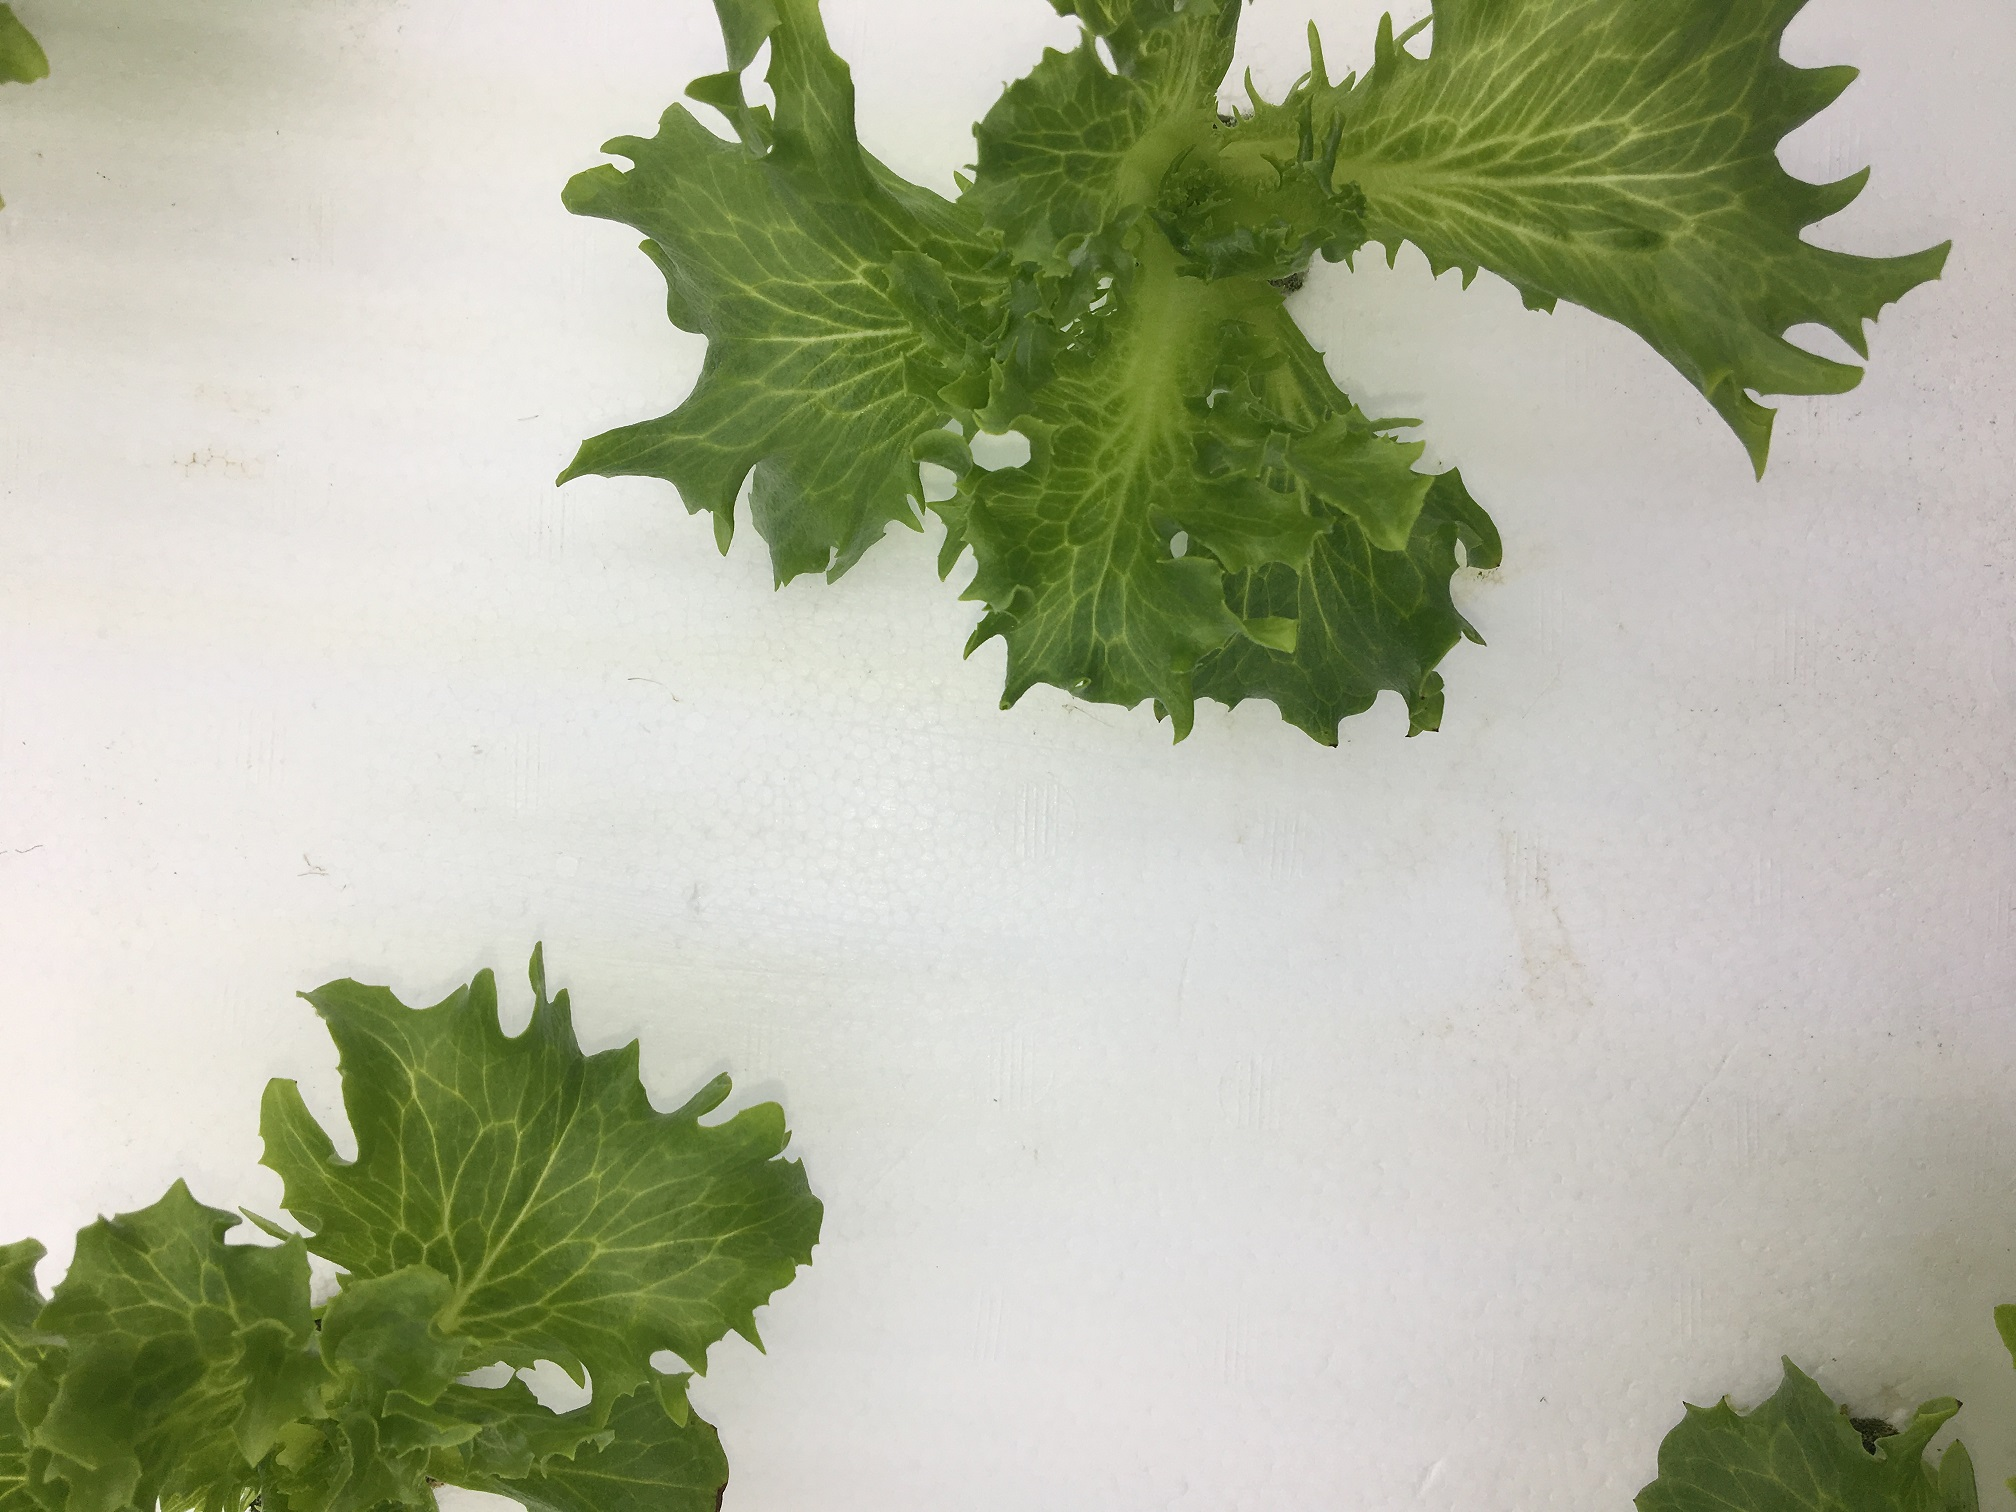tipburn: (1316, 727, 1359, 769), (1943, 1379, 1983, 1421), (703, 1472, 744, 1509), (702, 1409, 740, 1447)
